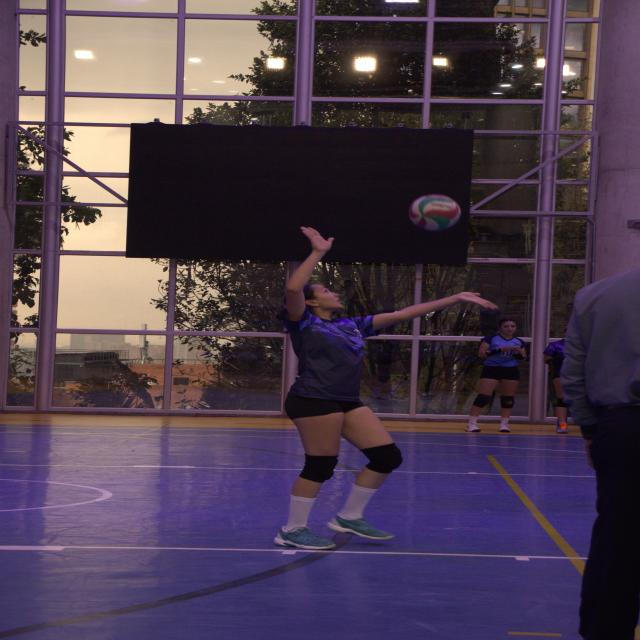volleyball: (409, 192, 460, 230)
